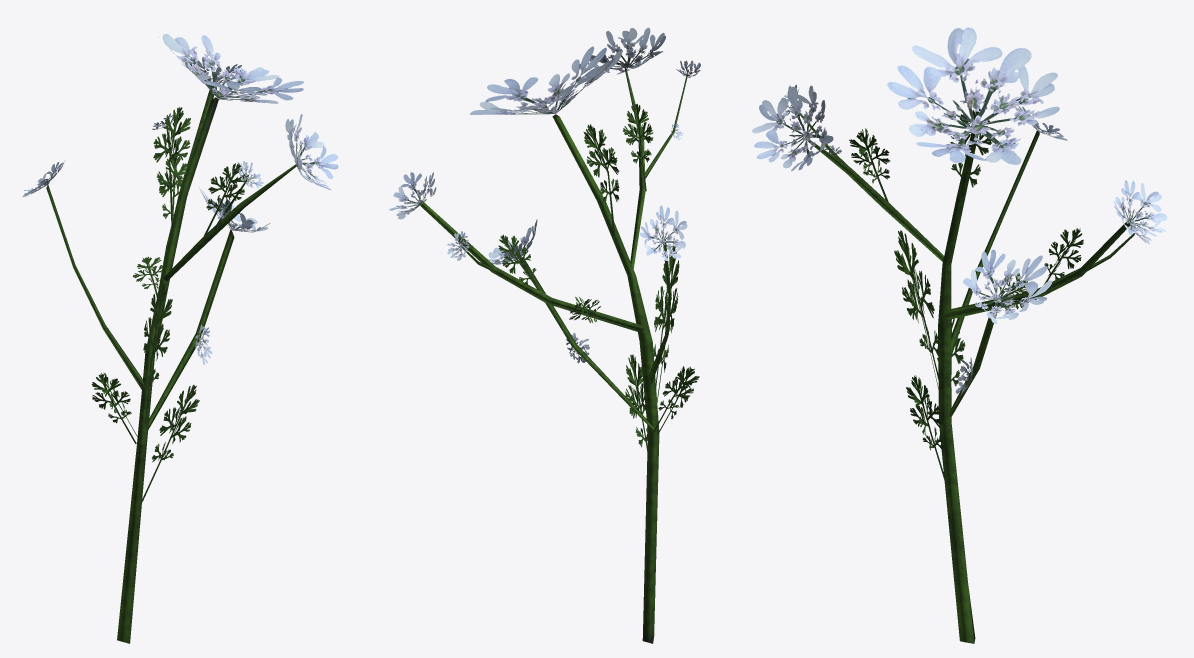
Rendered from Model_Plant_08.fbx.
The picture shows the model from 3 angles, left to right: view 1: azimuth 30°, elevation 25°; view 2: azimuth 150°, elevation 25°; view 3: azimuth 270°, elevation 25°; orthographic projection. The views are drawn at different scales.
Visible parts, largest first — view 1: coriander_FinalModel_Coriander; view 2: coriander_FinalModel_Coriander; view 3: coriander_FinalModel_Coriander.
Boxes of the visible parts, <box> form: coriander_FinalModel_Coriander: <box>22,34,338,643</box>; coriander_FinalModel_Coriander: <box>389,27,700,643</box>; coriander_FinalModel_Coriander: <box>752,27,1167,643</box>.
Size of the model in its own units: 26.45 by 53.76 by 33.53.
